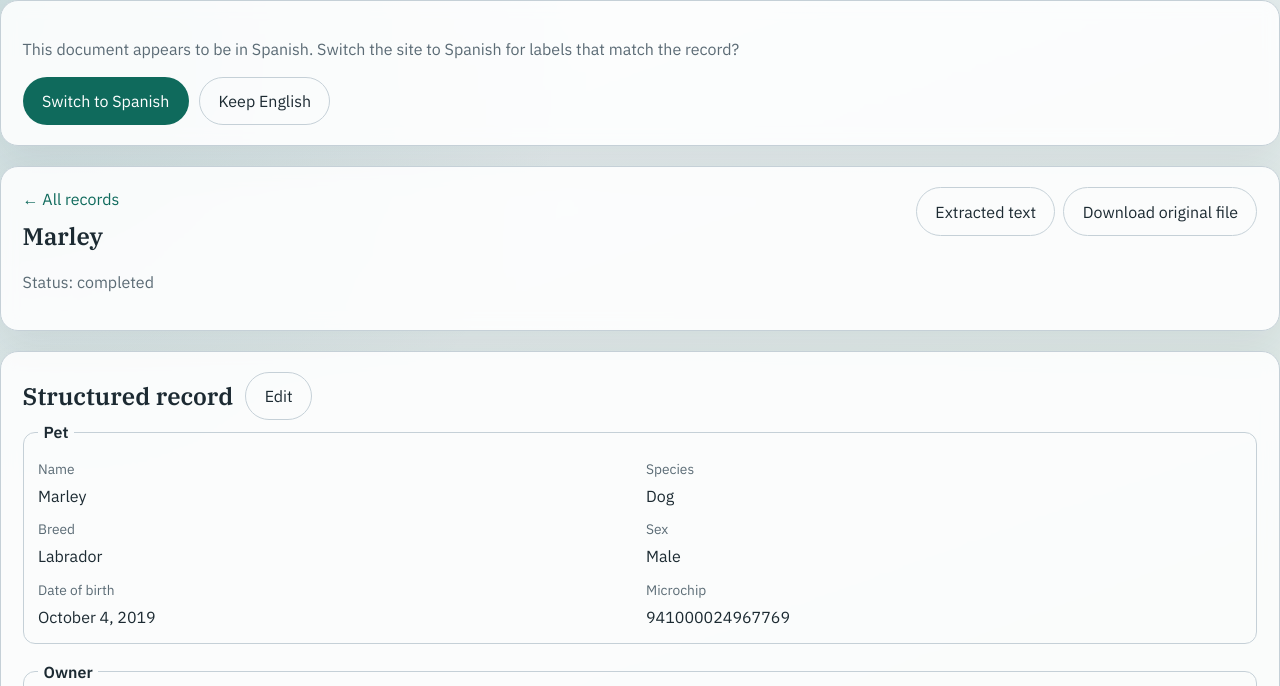
RecordPage › hides extracted text until the Extracted text button is clicked
Check: the heading "Marley" is shown, box [23,220,103,252]
Check: the text "RAW PDF TEXT CONTENT" is not shown
Click the button "Extracted text": (986, 212) [916,187,1056,236]
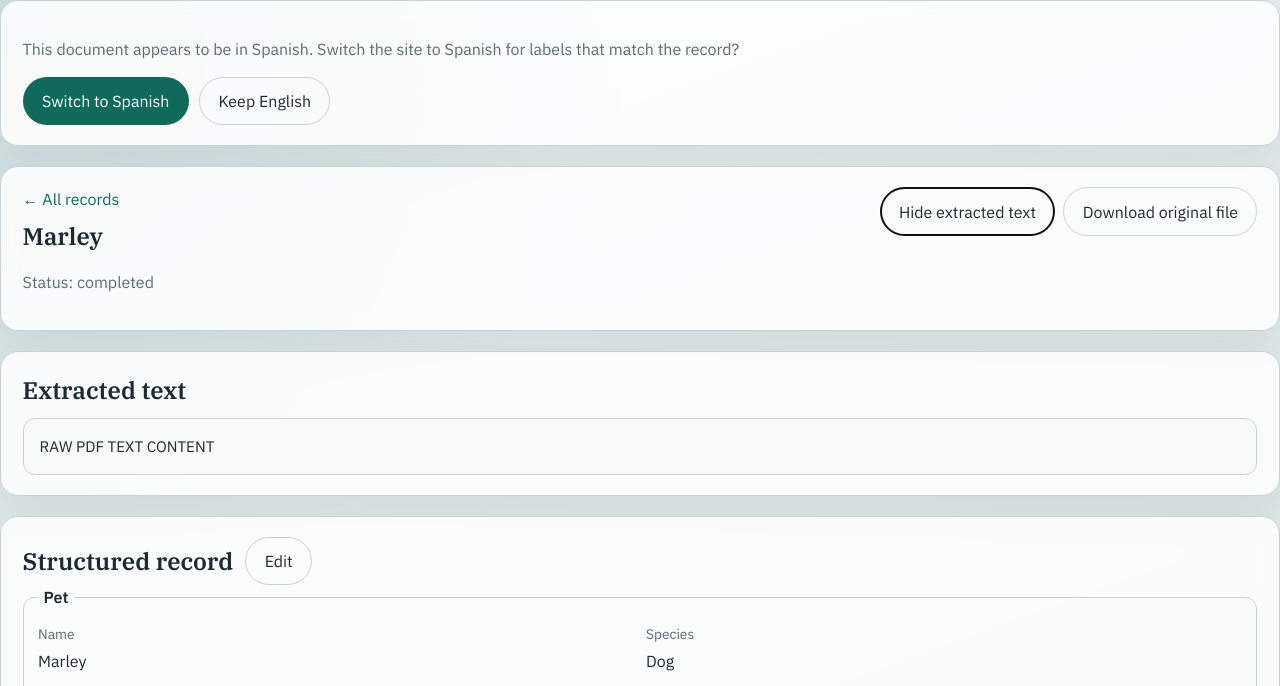
Check: the text "RAW PDF TEXT CONTENT" is shown, box [23,418,1257,475]
